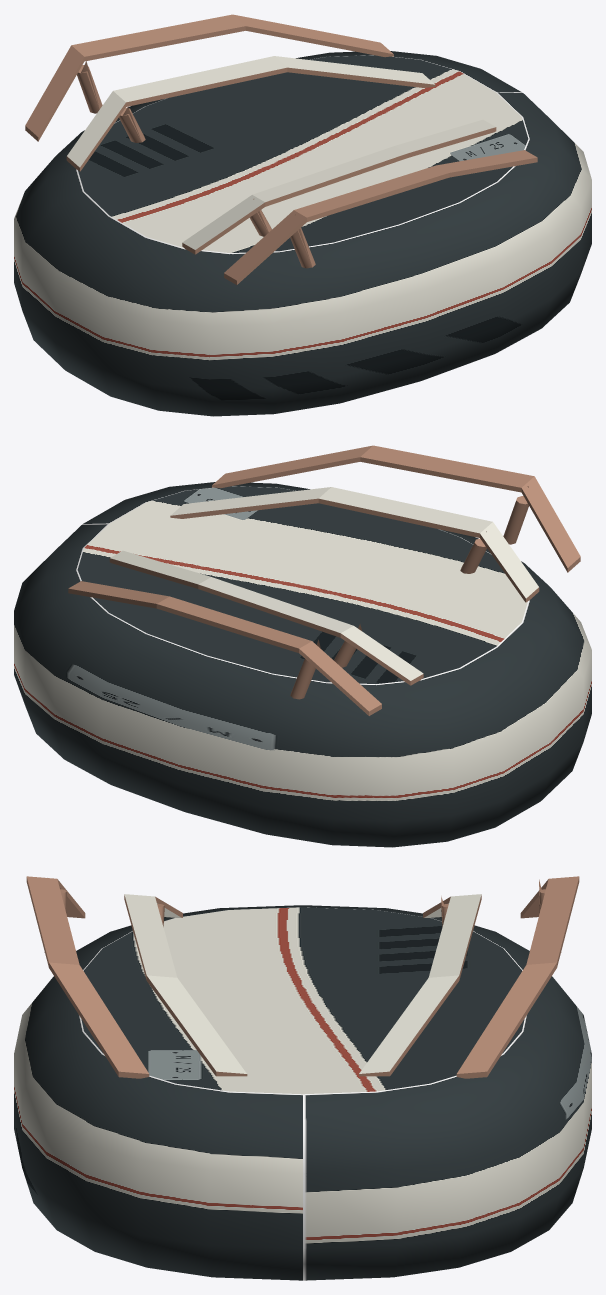
File: MotorCowl_25_SSR_赤銅・濃紺.glb
3 renders of one model, top to bottom at view 1: azimuth 30°, elevation 25°; view 2: azimuth 150°, elevation 25°; view 3: azimuth 270°, elevation 25°, orthographic. The views are drawn at different scales.
Visible parts, largest first — view 1: MotorCowl_25_SSR; view 2: MotorCowl_25_SSR; view 3: MotorCowl_25_SSR.
Boxes of the visible parts, <box> form: MotorCowl_25_SSR: <box>14,14,591,416</box>; MotorCowl_25_SSR: <box>14,445,591,847</box>; MotorCowl_25_SSR: <box>14,876,591,1280</box>.
Size of the model in its own units: 0.332 by 0.1422 by 0.286.
Materials: 2 (2 with a texture image).
